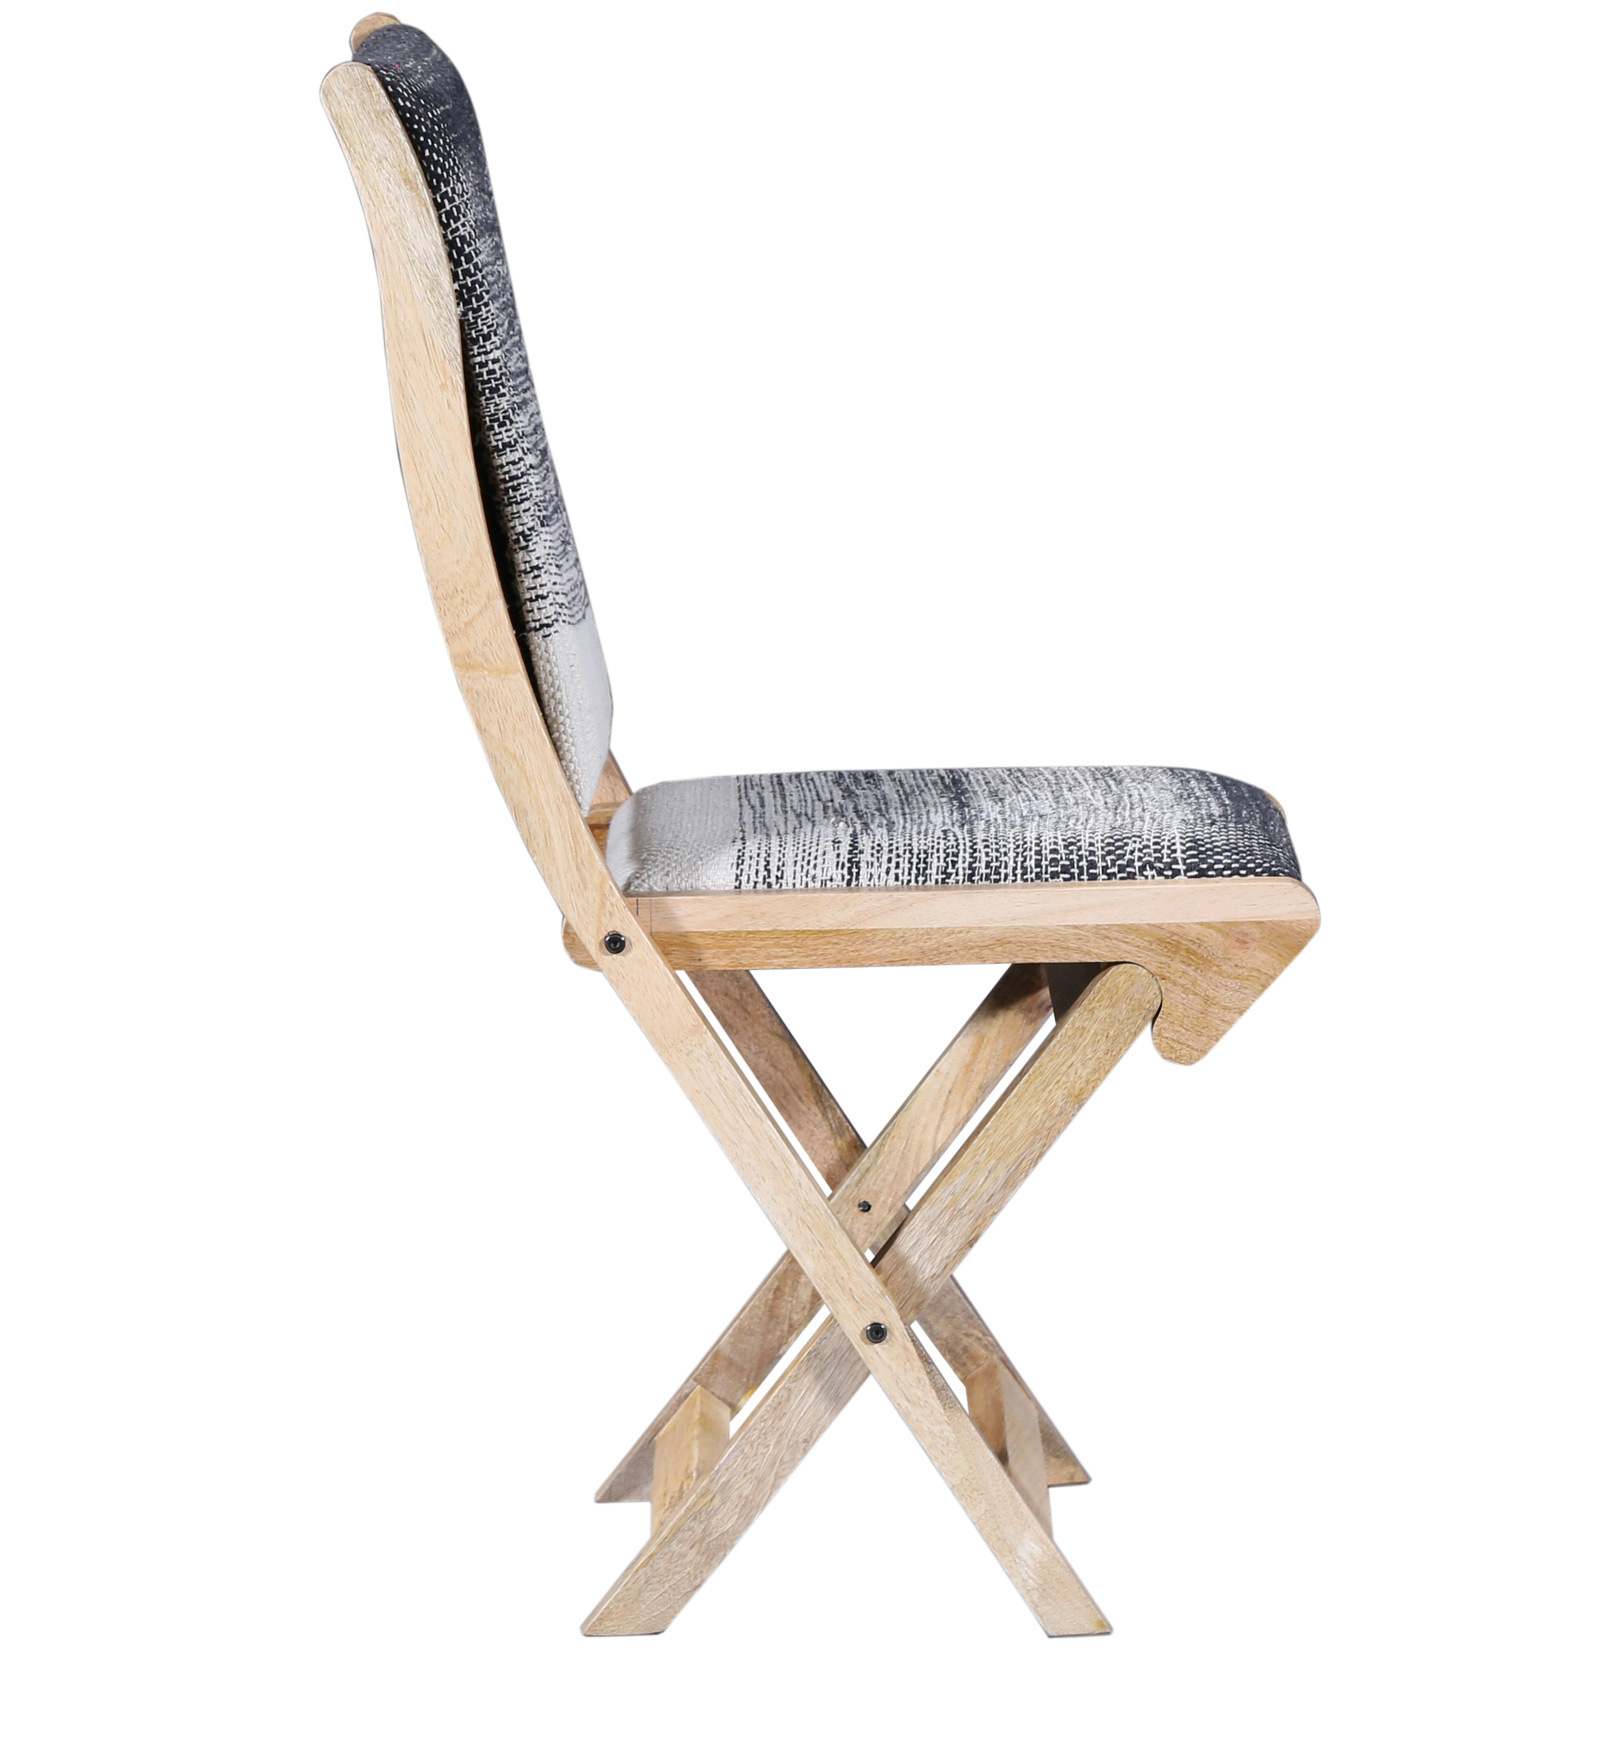Horan Folding Chair by Bohemiana: (300, 8, 1344, 1703)
